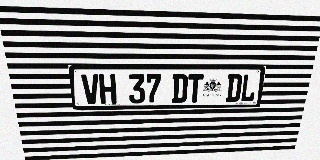3: (128, 74, 145, 104)
7: (145, 74, 161, 103)
D: (225, 74, 243, 102), (172, 74, 188, 103)
H: (99, 74, 117, 104)
L: (240, 74, 258, 102)
T: (187, 74, 204, 103)
V: (81, 74, 100, 104)
